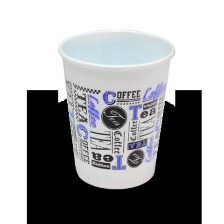paper_cup: (51, 22, 180, 194)
